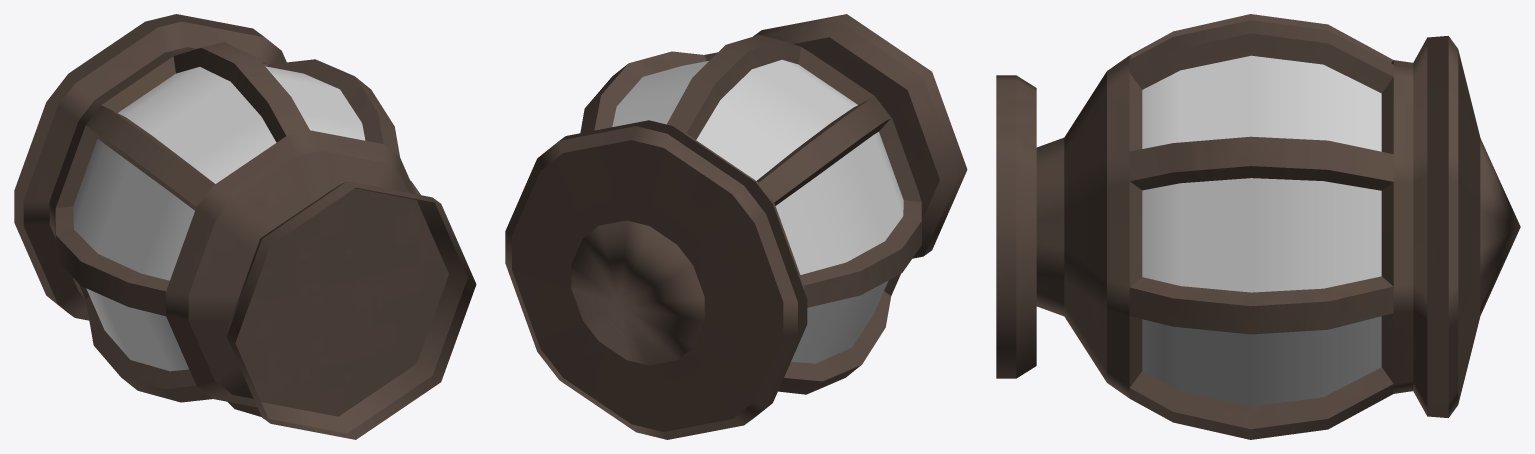
The model's file is LanternD.FBX.
The picture shows the model from 3 angles, left to right: view 1: azimuth 30°, elevation 25°; view 2: azimuth 150°, elevation 25°; view 3: azimuth 270°, elevation 25°; orthographic projection. The views are drawn at different scales.
Visible parts, largest first — view 1: pCylinder101_1__CandleStand00, pSphere1_1__Glass00; view 2: pCylinder101_1__CandleStand00, pSphere1_1__Glass00; view 3: pCylinder101_1__CandleStand00, pSphere1_1__Glass00.
Part boxes in pixels (x1,y1,x2,y2): pCylinder101_1__CandleStand00: (14, 14, 476, 439); pSphere1_1__Glass00: (73, 66, 365, 371); pCylinder101_1__CandleStand00: (505, 14, 967, 439); pSphere1_1__Glass00: (612, 60, 903, 363); pCylinder101_1__CandleStand00: (996, 14, 1520, 439); pSphere1_1__Glass00: (1142, 55, 1381, 406).
Bounding box in the file's own units: 54.77 × 54.77 × 65.
